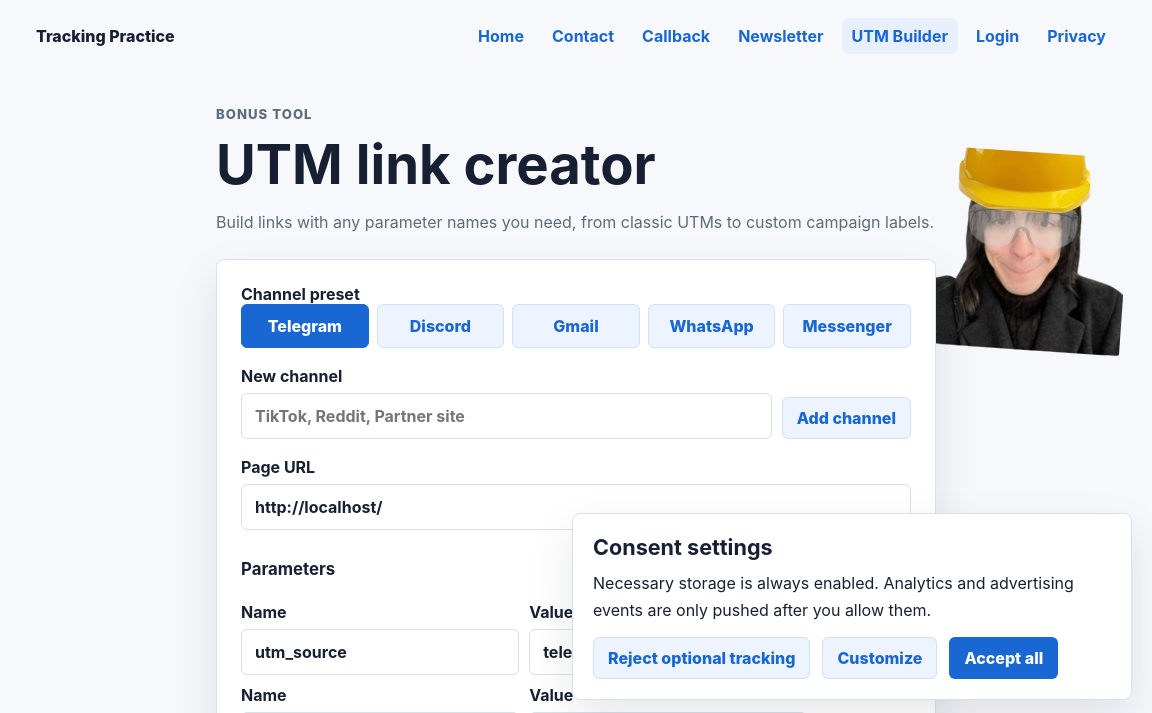
Scenario: adds a custom channel preset
Type "TikTok" into the field with placeholder "TikTok, Reddit, Partner site".
click(506, 416); type("TikTok")  # box x1=241 y1=393 x2=772 y2=439
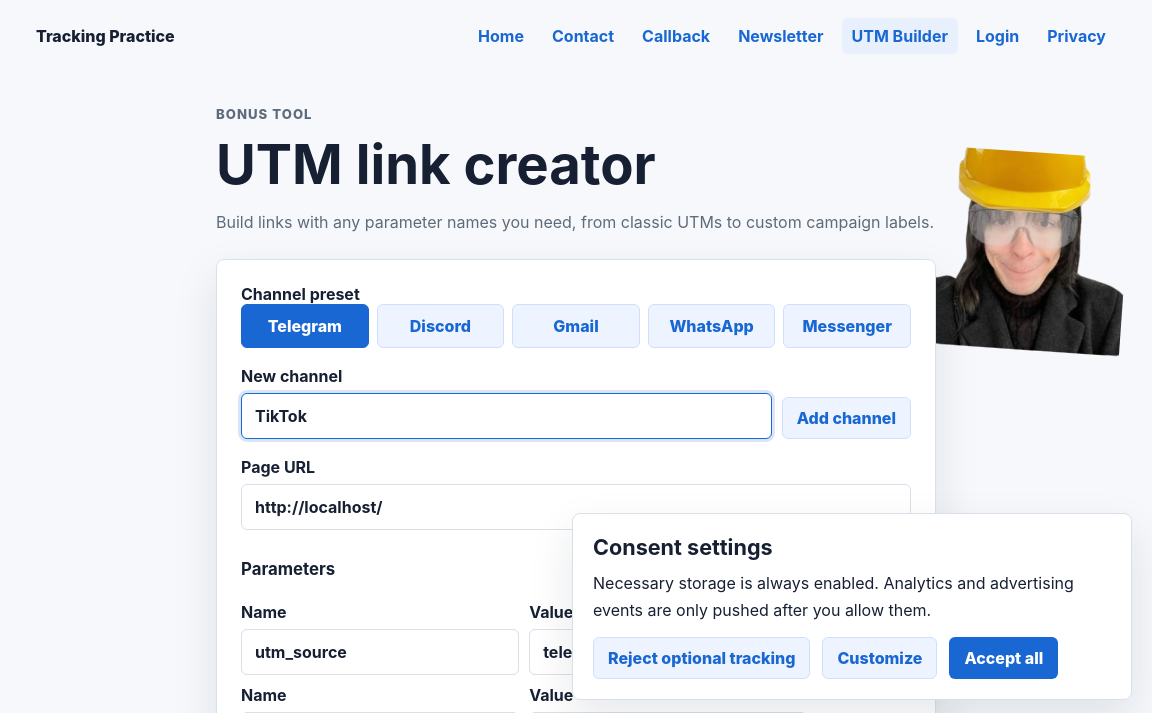
Click the button "Add channel".
click(846, 418)  # box x1=782 y1=397 x2=911 y2=439
(page scrolled)
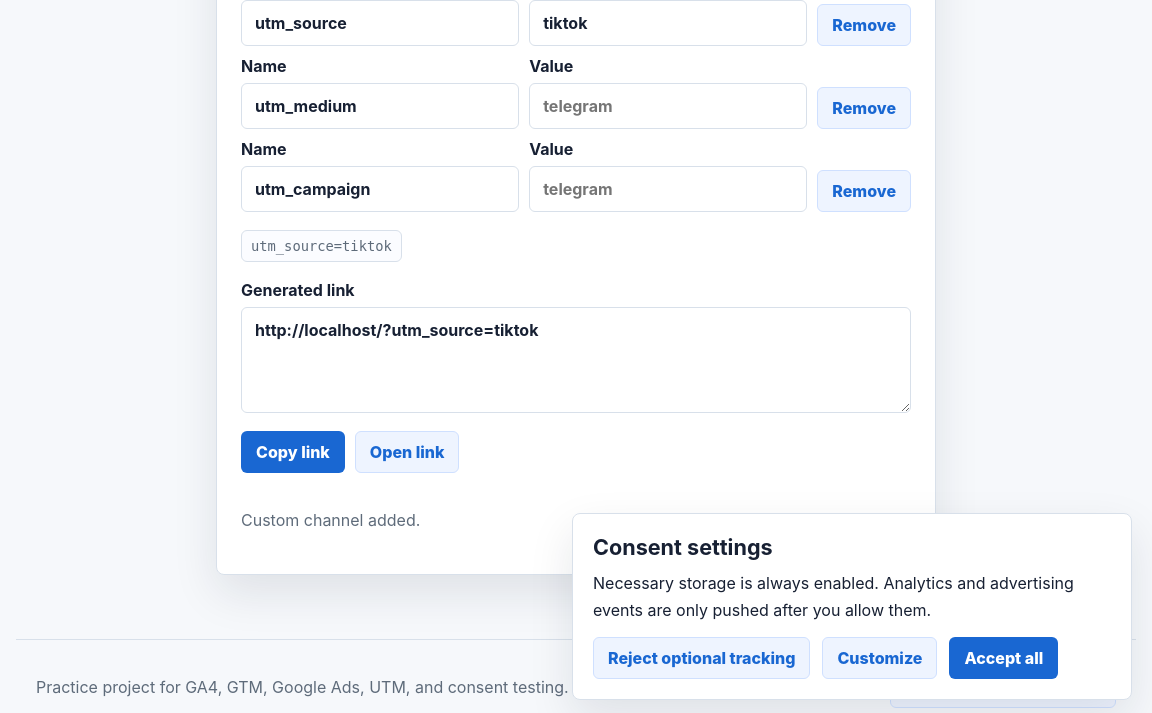
Expected: the text box showing "utm_source=tiktok" is shown, x1=241 y1=307 x2=911 y2=413
